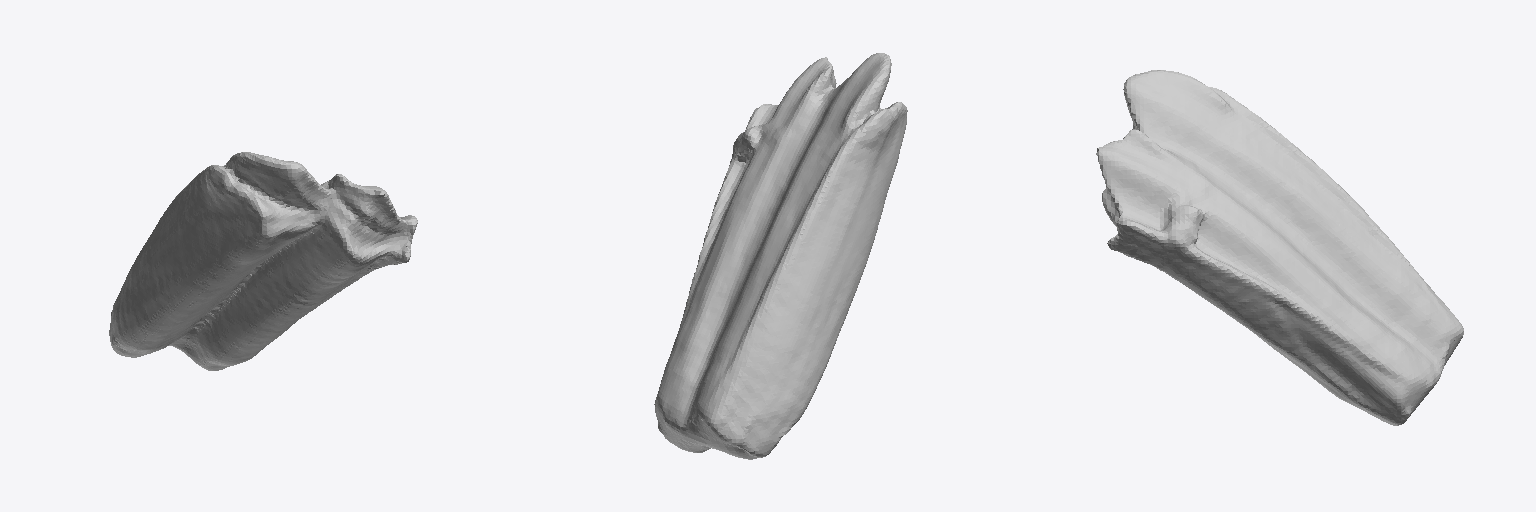
The model's file is MB Ovis 9 M1.obj.
3 renders of one model, left to right at view 1: azimuth 30°, elevation 25°; view 2: azimuth 150°, elevation 25°; view 3: azimuth 270°, elevation 25°, orthographic.
Size of the model in its own units: 14.62 by 25.73 by 27.03.